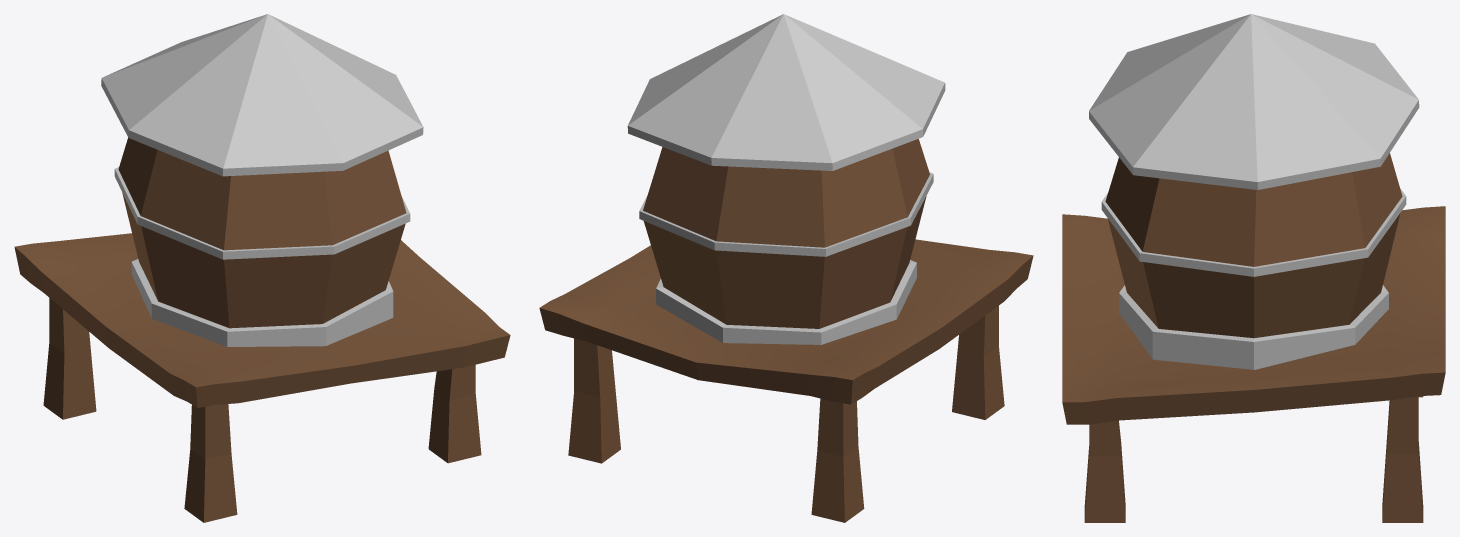
The model's file is bld-watertower.glb.
3 views of the same model, side by side, from view 1: azimuth 30°, elevation 25°; view 2: azimuth 150°, elevation 25°; view 3: azimuth 270°, elevation 25° (orthographic). The views are drawn at different scales.
Parts seen in each view (by area): view 1: Cube-col; view 2: Cube-col; view 3: Cube-col.
Boxes of the visible parts, x1=… form: Cube-col: x1=14, y1=14, x2=510, y2=522; Cube-col: x1=539, y1=14, x2=1033, y2=522; Cube-col: x1=1062, y1=14, x2=1445, y2=522.
Size of the model in its own units: 8.53 by 10.8 by 8.53.
